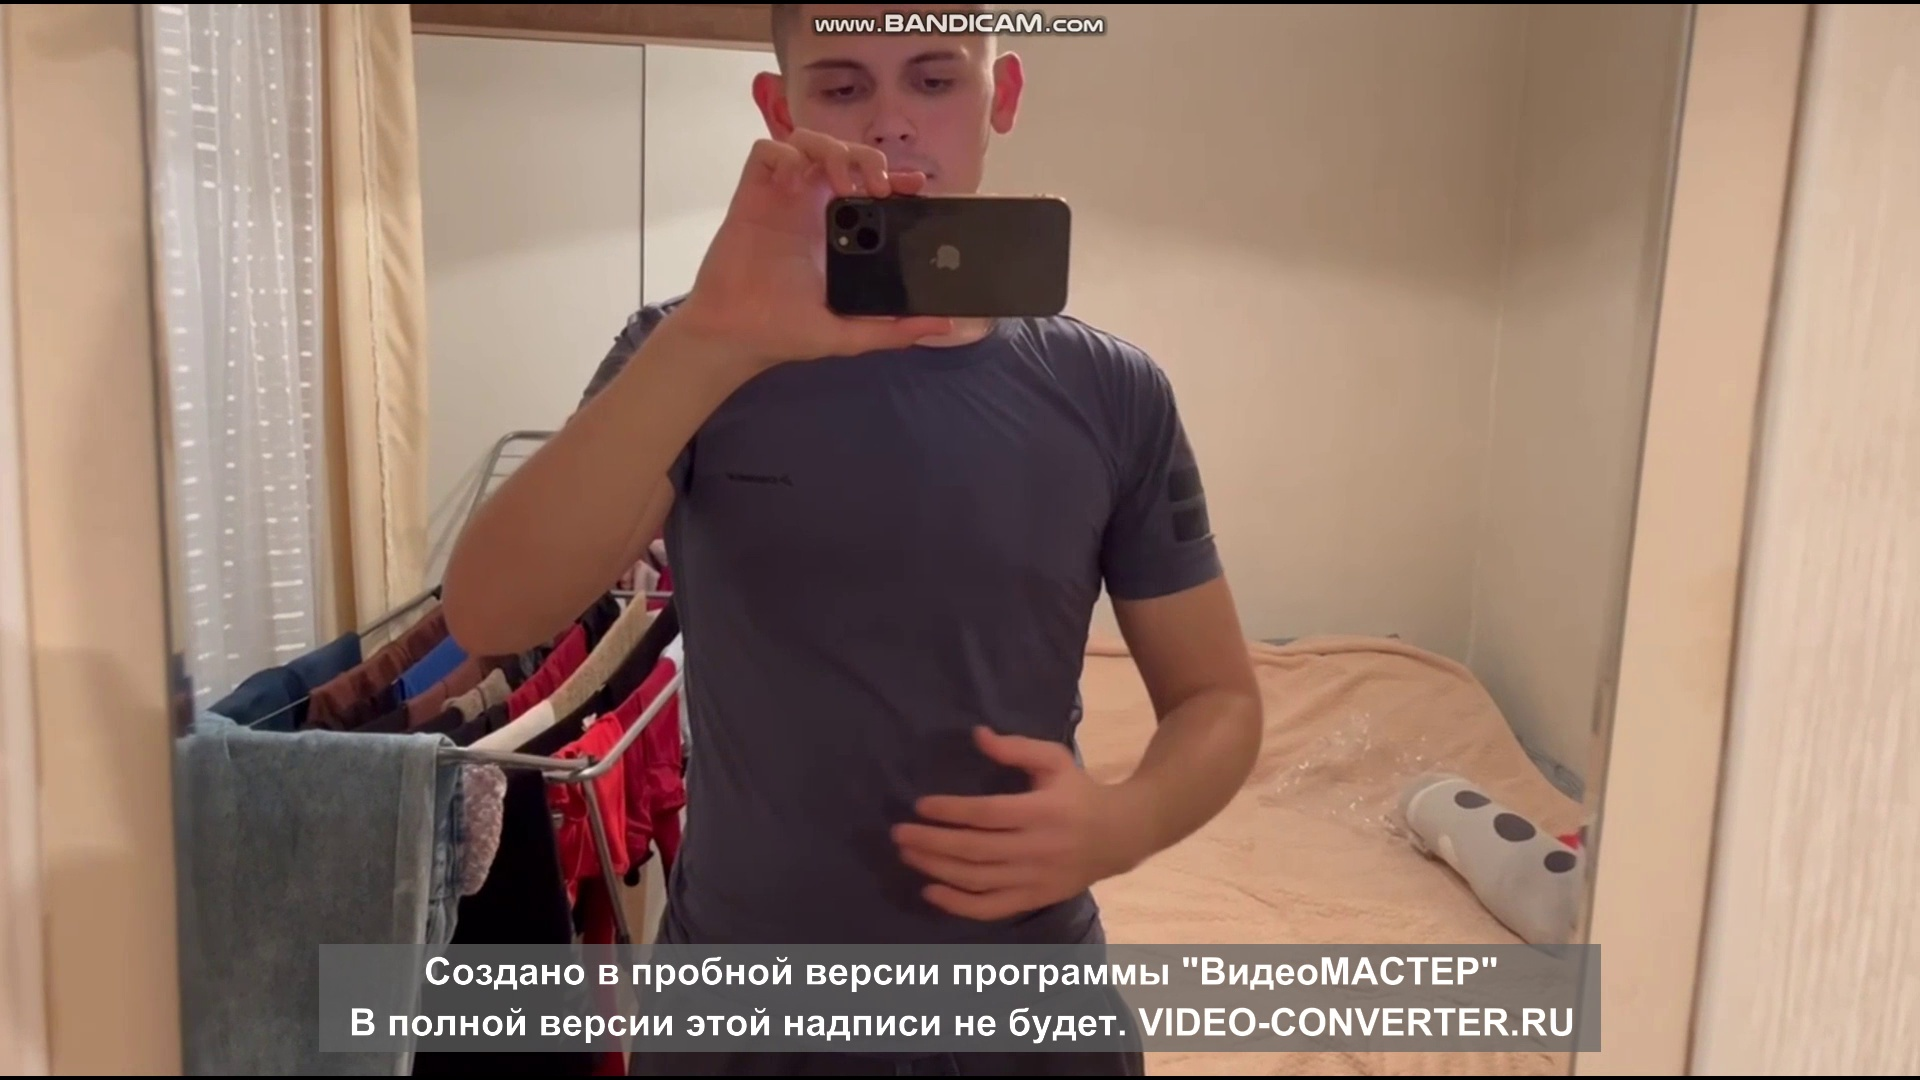Кисть: (893, 727, 1114, 919)
